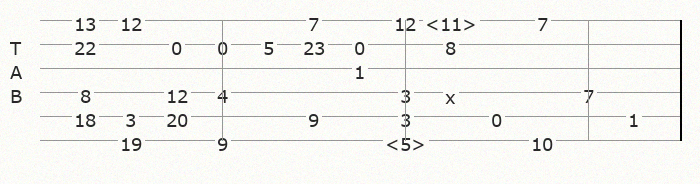0: (171, 36, 186, 53), (217, 36, 232, 53), (354, 36, 369, 53), (491, 108, 506, 125)
1: (354, 60, 369, 77), (628, 108, 643, 125)
10: (531, 132, 557, 149)
12: (120, 12, 146, 29), (166, 84, 192, 101), (394, 12, 420, 29)
13: (74, 12, 100, 29)
18: (74, 108, 100, 125)
19: (120, 132, 146, 149)
20: (166, 108, 192, 125)
22: (74, 36, 100, 53)
23: (303, 36, 329, 53)
3: (125, 108, 140, 125), (400, 84, 415, 101), (400, 108, 415, 125)
4: (217, 84, 232, 101)
5: (263, 36, 278, 53)
7: (308, 12, 323, 29), (537, 12, 552, 29), (583, 84, 598, 101)
8: (80, 84, 95, 101), (445, 36, 460, 53)
9: (217, 132, 232, 149), (308, 108, 323, 125)
harmonic: (425, 12, 481, 29), (385, 132, 430, 149)
x: (445, 85, 460, 99)
